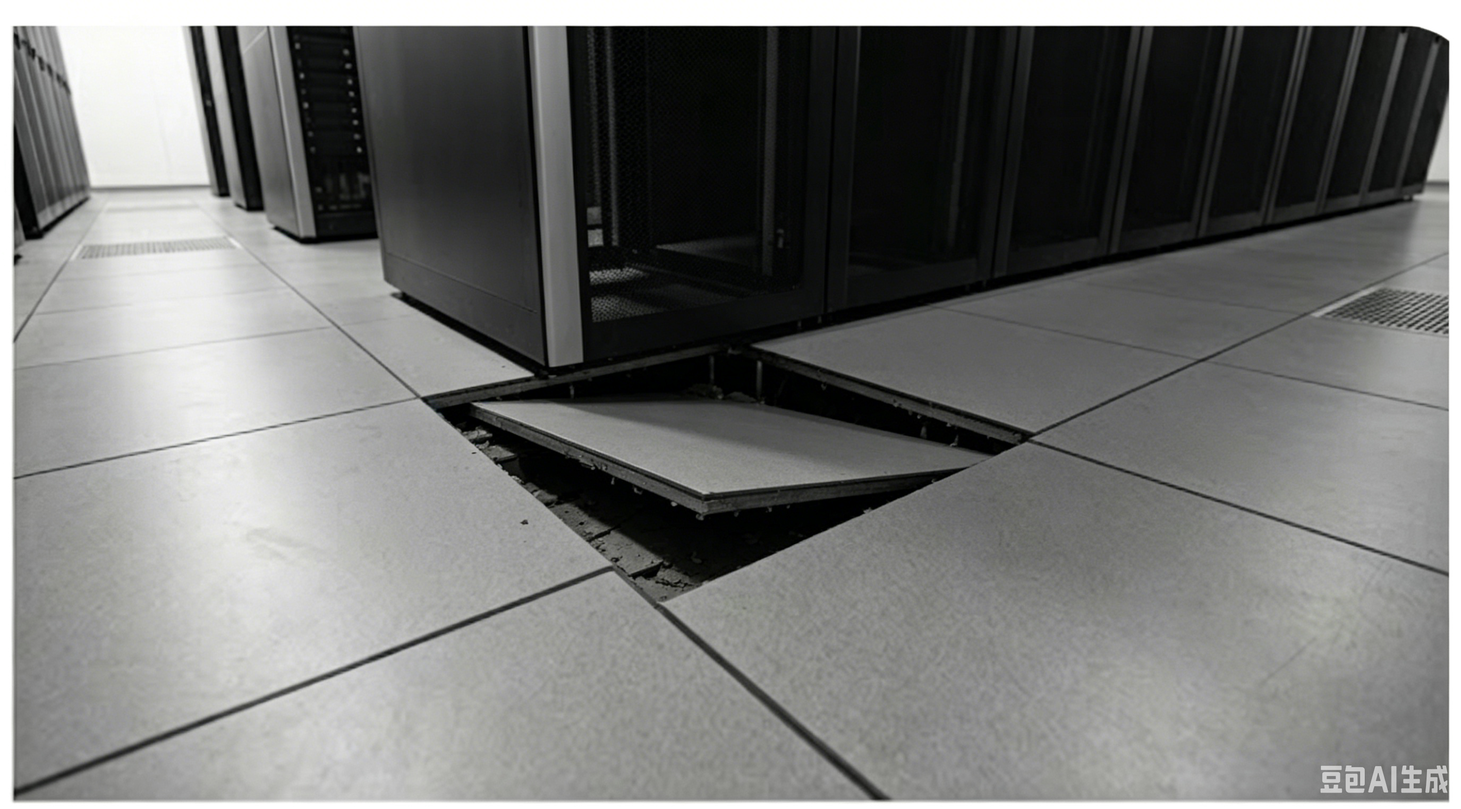floor_defect: (403, 306, 1041, 608)
